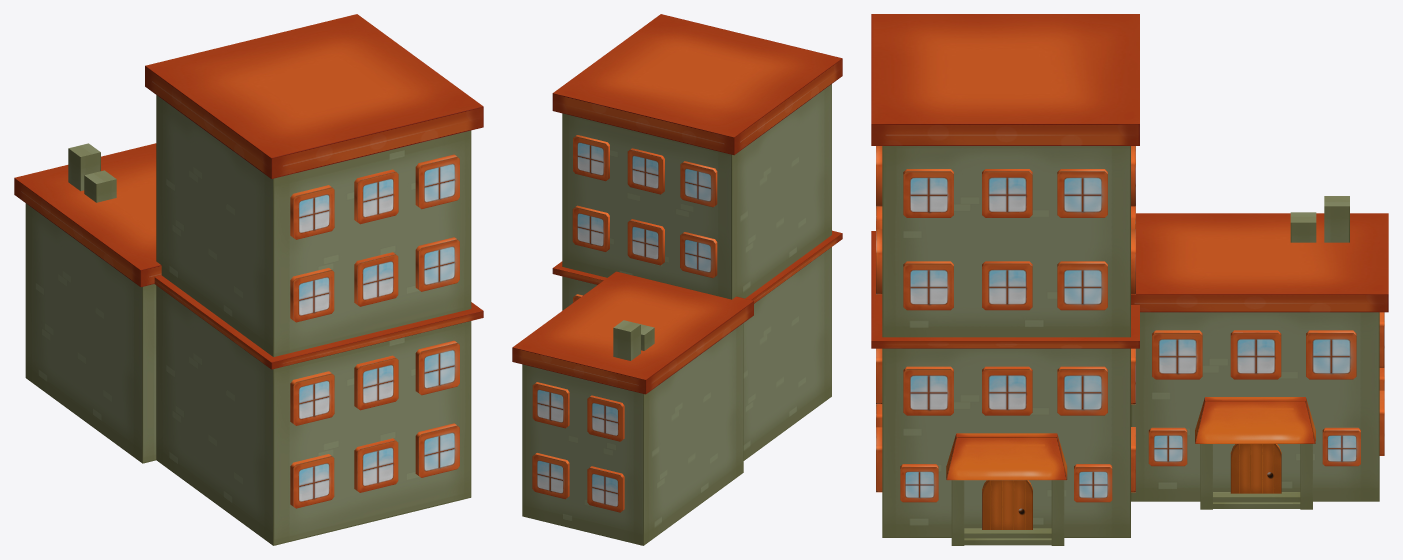
The model's file is House_13.fbx.
The picture shows the model from 3 angles, left to right: view 1: azimuth 30°, elevation 25°; view 2: azimuth 150°, elevation 25°; view 3: azimuth 270°, elevation 25°; orthographic projection. The views are drawn at different scales.
Visible parts, largest first — view 1: House_13; view 2: House_13; view 3: House_13.
Part boxes in pixels (x1,y1,x2,y2): House_13: (14,14,483,545); House_13: (512,14,842,545); House_13: (871,14,1388,545).
Bounding box in the file's own units: 8.67 × 13.28 × 14.91.
